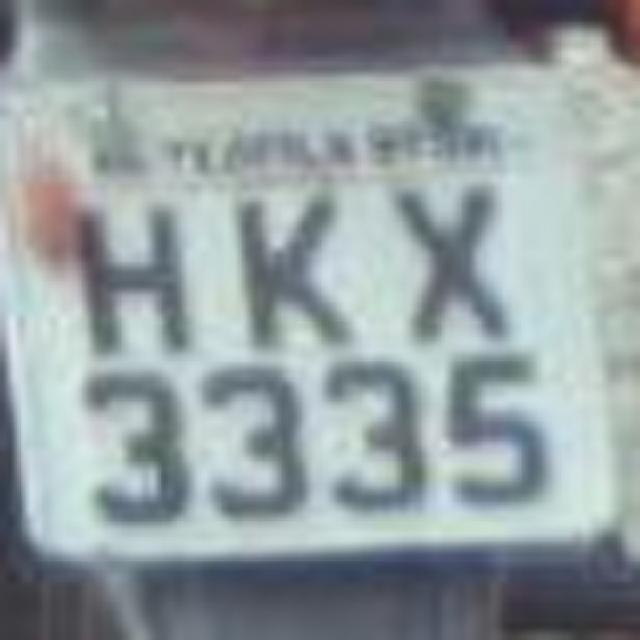3: (32, 336, 212, 536), (144, 344, 328, 531), (285, 348, 440, 532)
5: (416, 356, 552, 524)
H: (55, 172, 200, 372)
X: (376, 168, 524, 360)
